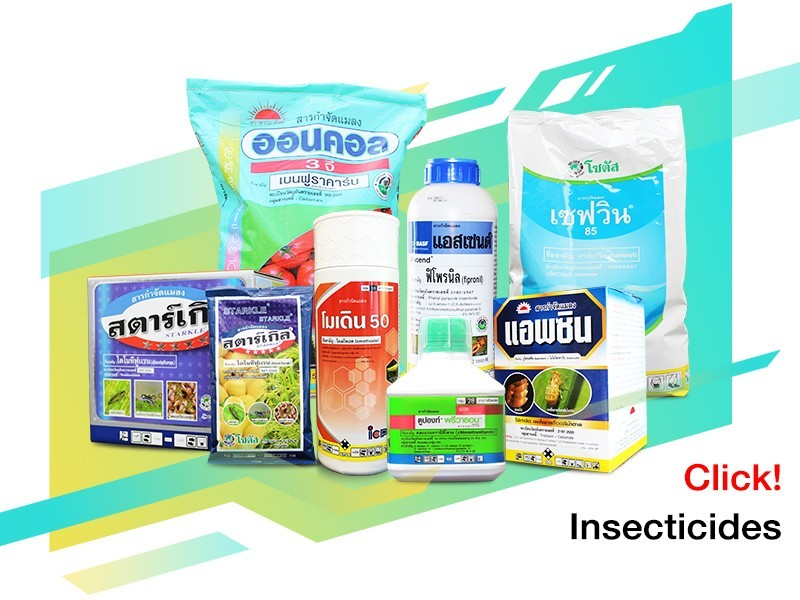Insecticide: (496, 95, 699, 403), (187, 61, 411, 292), (74, 265, 256, 466), (484, 289, 663, 490), (305, 199, 405, 477), (191, 283, 328, 482), (381, 313, 510, 489), (402, 152, 503, 368)
